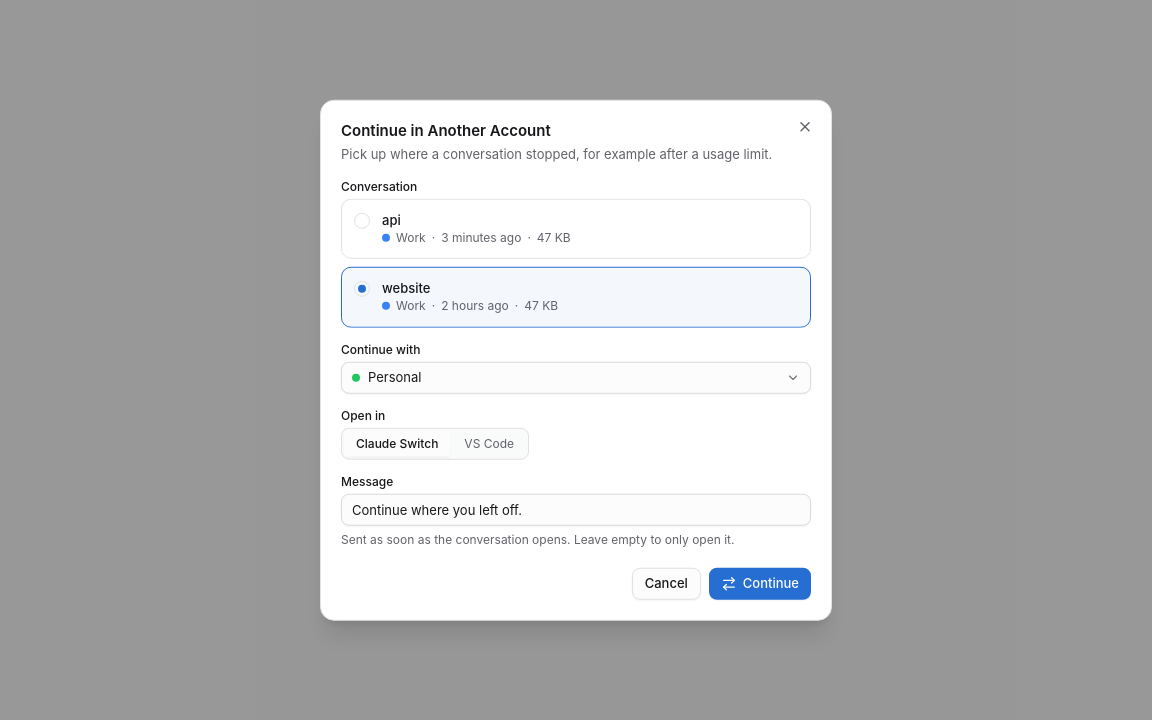
Test case: ContinueConversationDialog › only offers signed-in accounts other than the conversation's own
Click the dropdown named "Continue with". click: (395, 376)
box: [341,361,811,393]
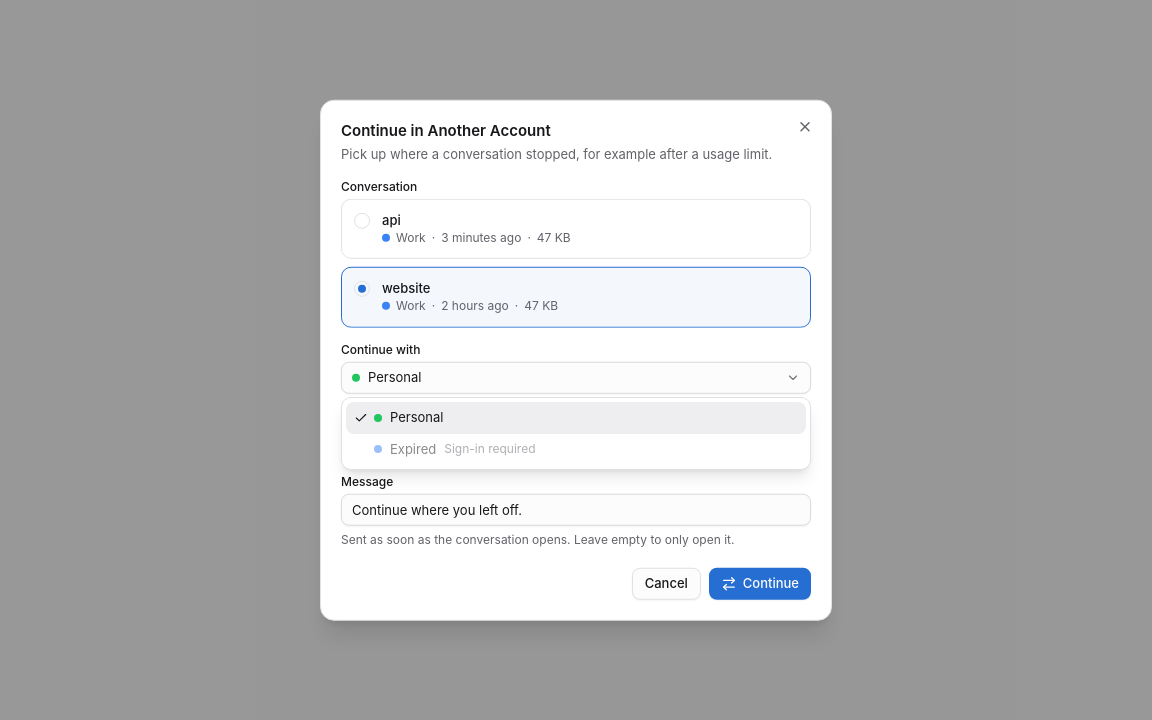
expect the options read "Personal", "ExpiredSign-in required", in this order: met, box [346,402,806,434]; [374,440,536,456]
